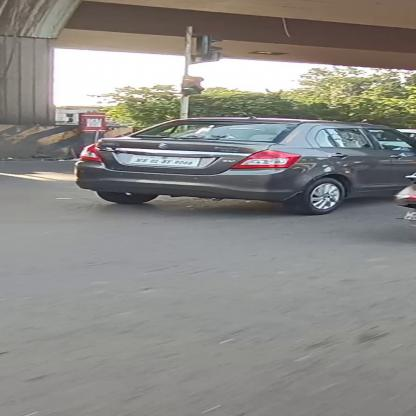license_plate: (128, 154, 200, 167)
